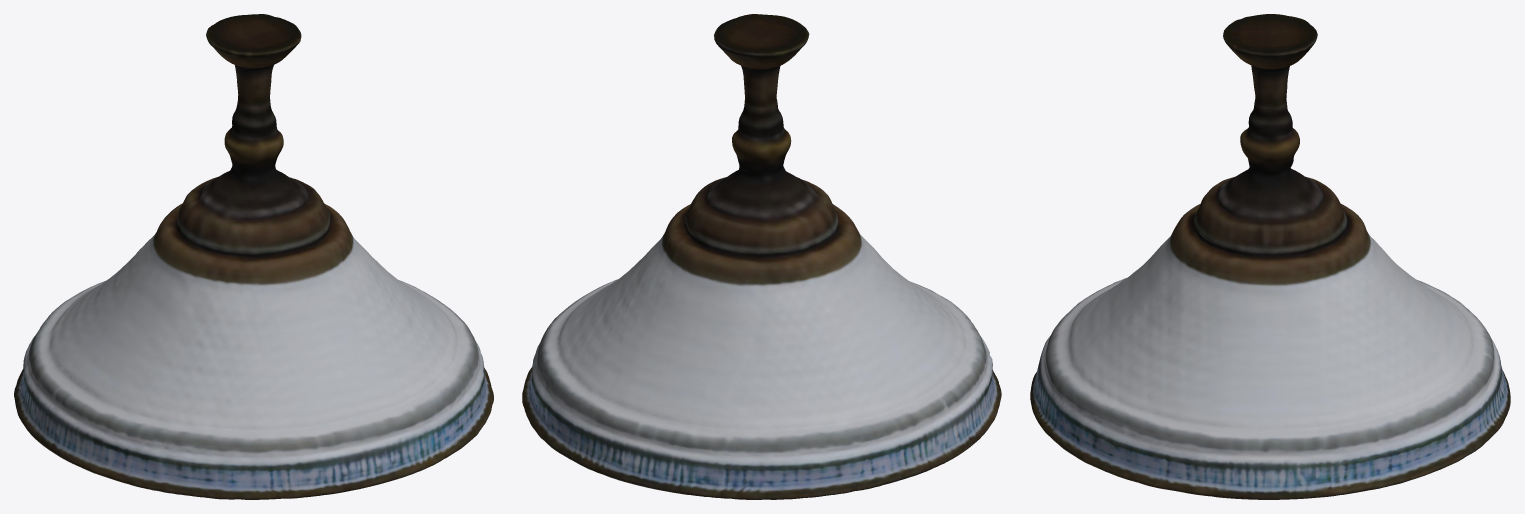
Rendered from 163f2aaf8c62_Traditional_brass_a.fbx.
3 views of the same model, side by side, from view 1: azimuth 30°, elevation 25°; view 2: azimuth 150°, elevation 25°; view 3: azimuth 270°, elevation 25° (orthographic).
Parts seen in each view (by area): view 1: high_poly; view 2: high_poly; view 3: high_poly.
Boxes of the visible parts, x1,y1,x2,y2 form: high_poly: [14, 14, 493, 499]; high_poly: [522, 14, 1001, 499]; high_poly: [1030, 14, 1510, 499].
Bounding box in the file's own units: 99.71 × 84.59 × 100.
